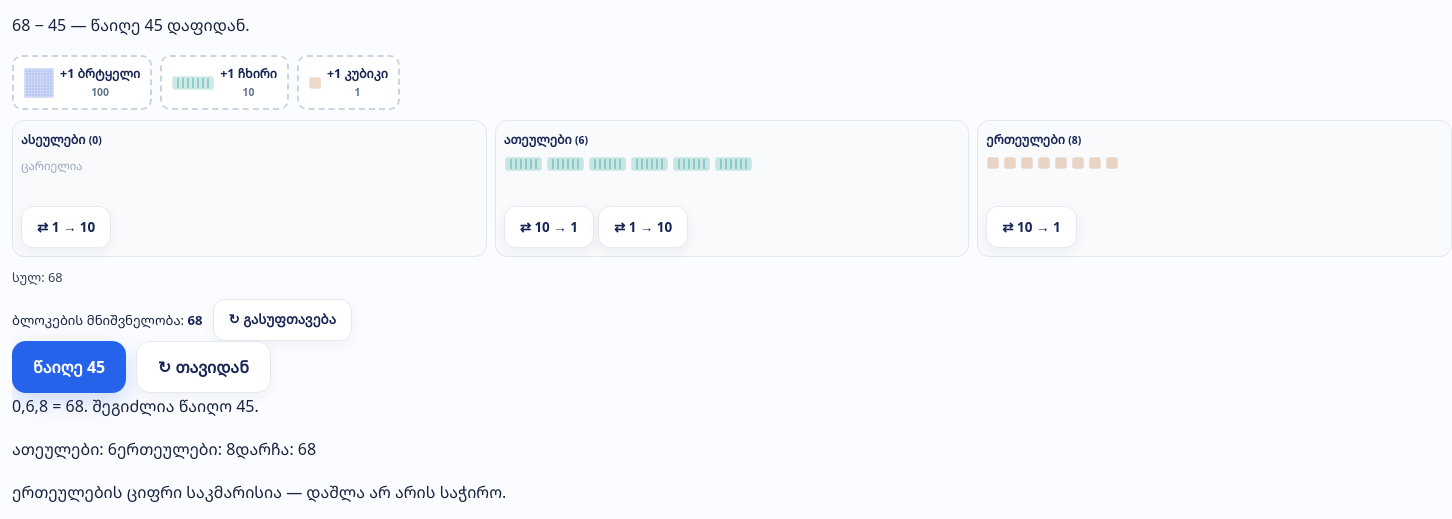
Test: tools: the subtracting mat › needs no break when the ones are big enough
The width and height of the screenshot is (1452, 519).
Click the button "წაიღე 45" at coordinates (69, 367), box x1=12 y1=341 x2=126 y2=393
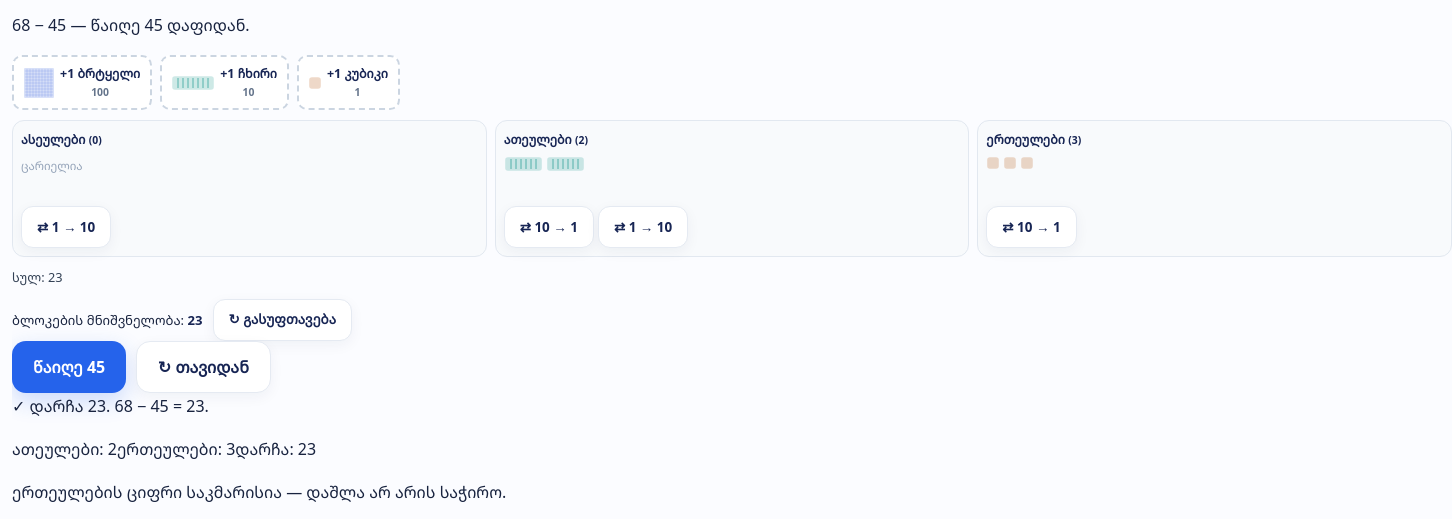
Expected: the message with class "lab-status" shows "23", x1=12 y1=395 x2=209 y2=417
